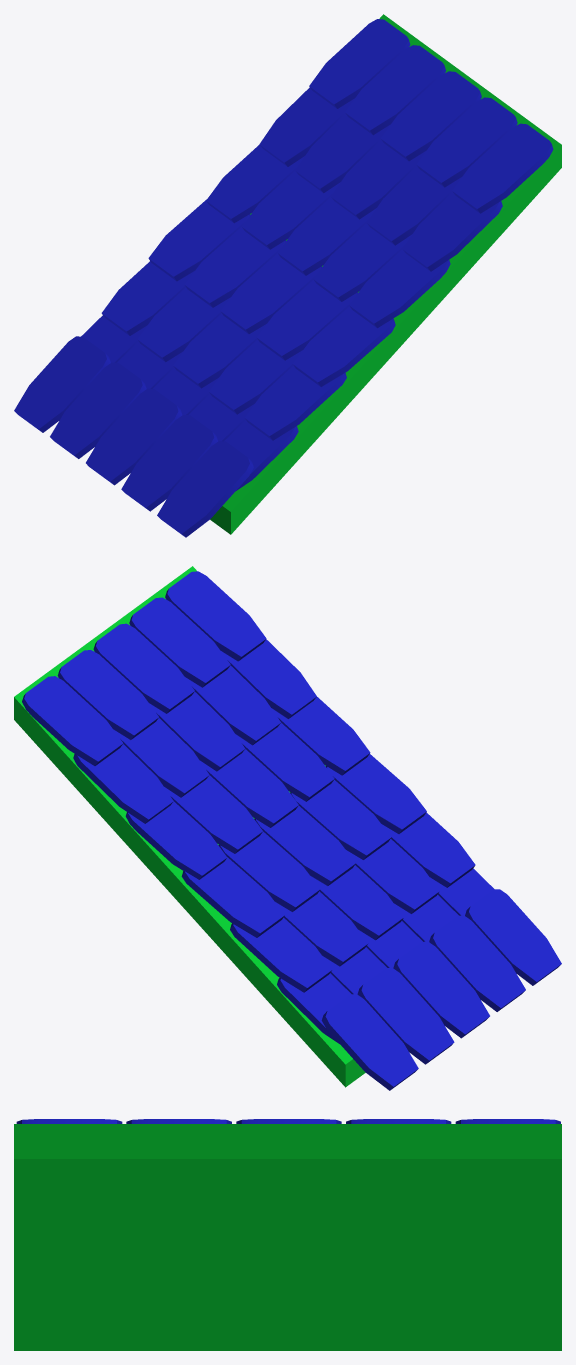
File: RoofRepetition.fbx
3 renders of one model, top to bottom at view 1: azimuth 30°, elevation 25°; view 2: azimuth 150°, elevation 25°; view 3: azimuth 270°, elevation 25°, orthographic. The views are drawn at different scales.
Visible parts, largest first — view 1: RoofRepetition (×2); view 2: RoofRepetition (×2); view 3: RoofRepetition (×2).
Boxes of the visible parts, <box> form: RoofRepetition (×2): <box>14,14,561,537</box>; RoofRepetition (×2): <box>14,566,561,1090</box>; RoofRepetition (×2): <box>14,1119,561,1350</box>.
Size of the model in its own units: 2.42 by 1.92 by 2.
